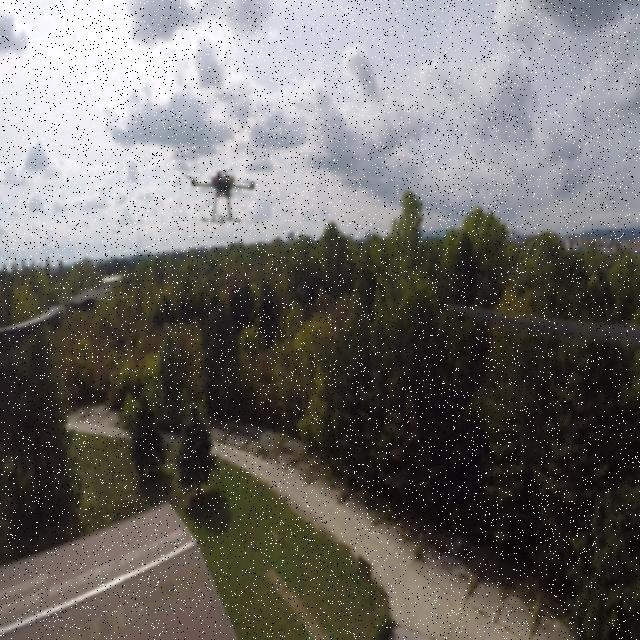UAV: (182, 164, 270, 226)
